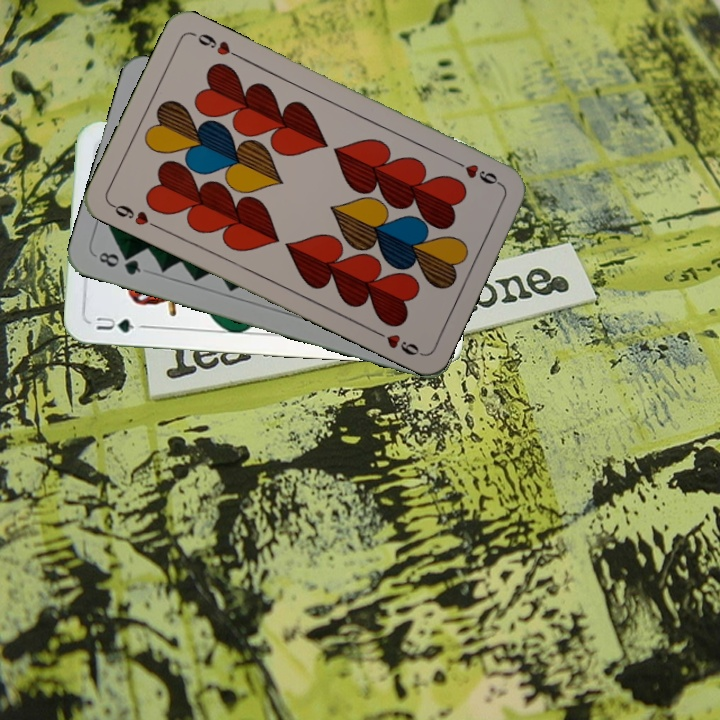G8: (91, 248, 144, 278)
GU: (92, 313, 137, 335)
H9: (106, 199, 162, 232), (449, 156, 504, 189)
